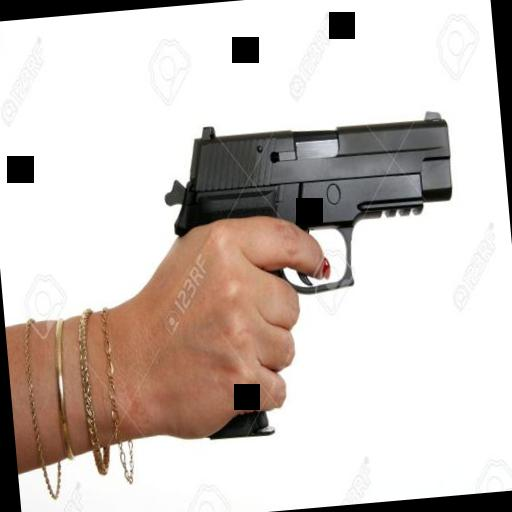Handgun: (152, 99, 474, 449)
